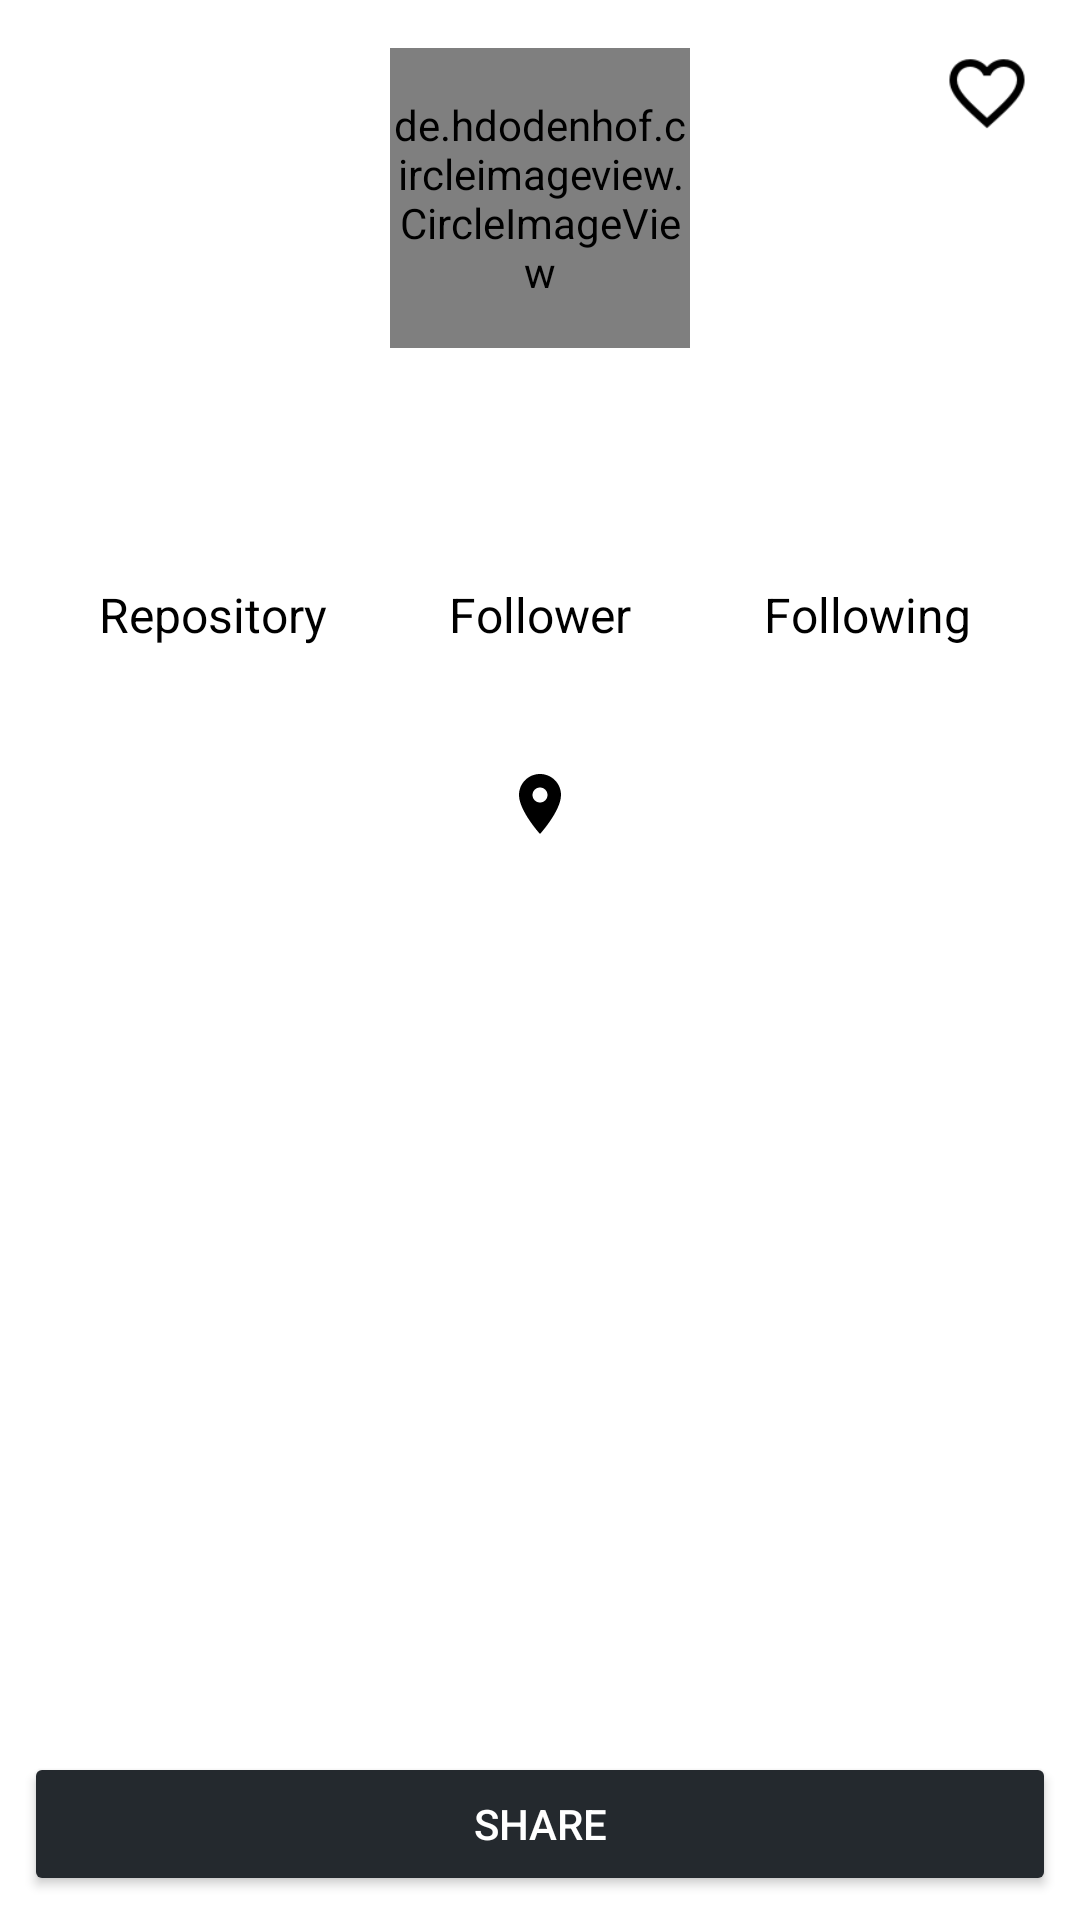

Icon bounding boxes for this 1080px×1920px phone screenshot, format {"left": x1, "top": y1, "right": x2, "bottom": y2}:
favorite border: {"left": 949, "top": 59, "right": 1025, "bottom": 128}
